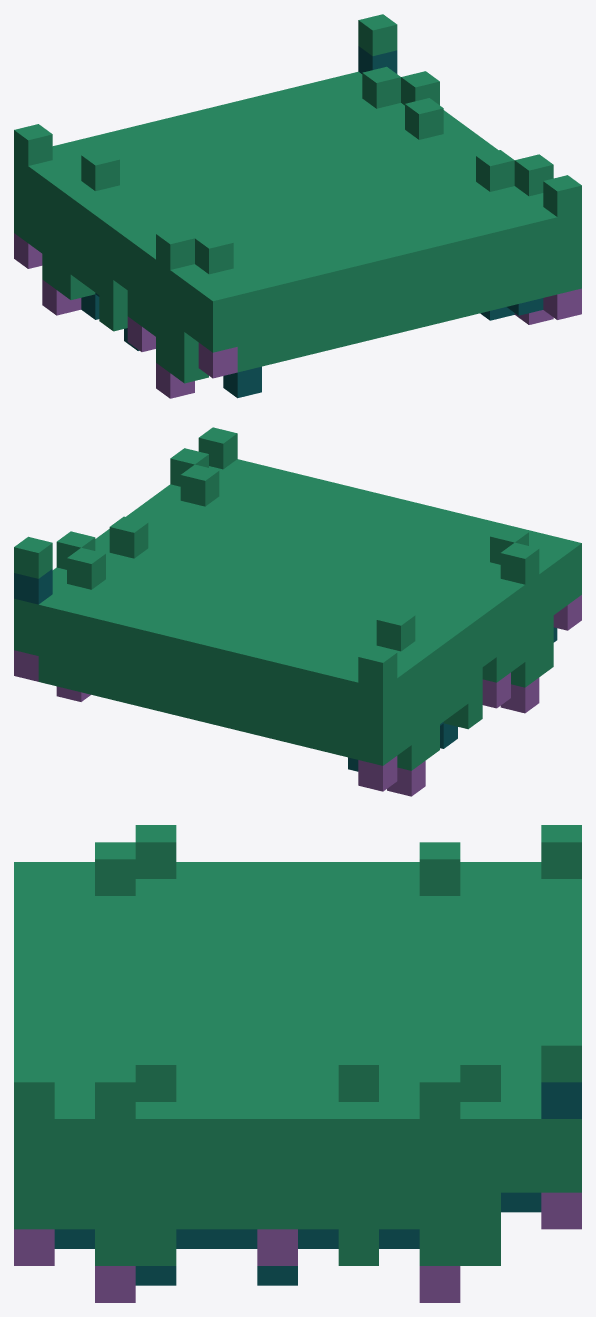
The model's file is sueloPlataform-2.obj.
3 renders of one model, top to bottom at view 1: azimuth 30°, elevation 25°; view 2: azimuth 150°, elevation 25°; view 3: azimuth 270°, elevation 25°, orthographic. The views are drawn at different scales.
Bounding box in the file's own units: 1.5 × 0.7 × 1.4.
1 material, 1 textured.
